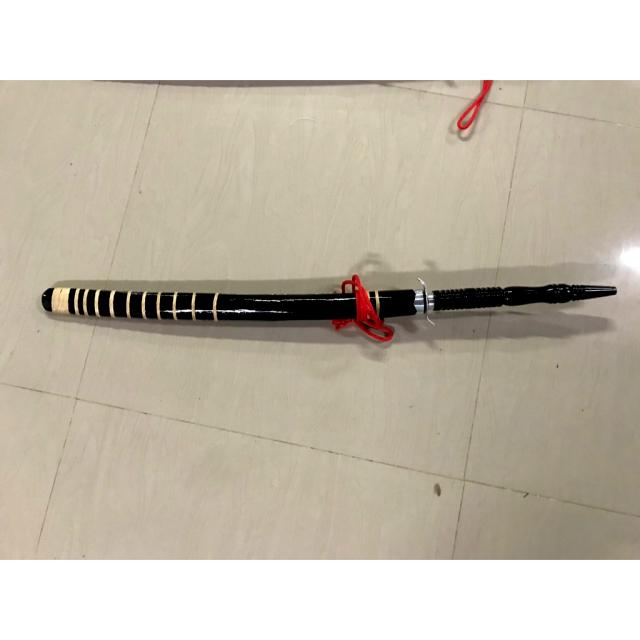long sword: (38, 276, 618, 342)
